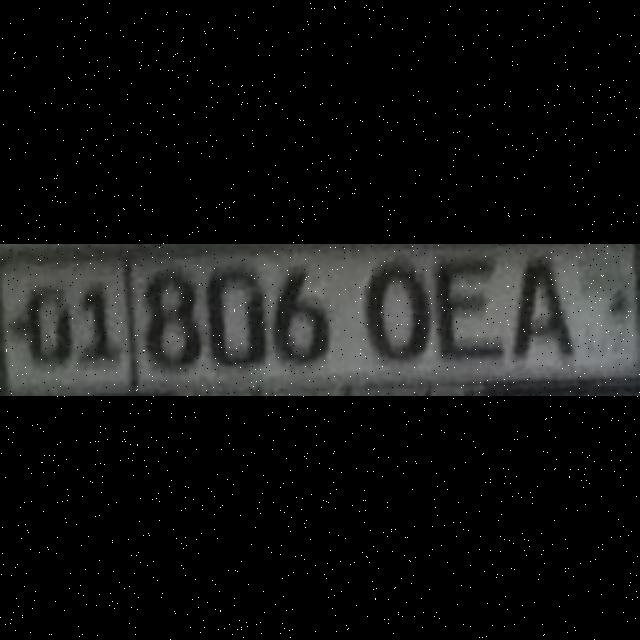0: (362, 262, 428, 356), (204, 266, 266, 364), (23, 284, 71, 364)
1: (74, 283, 114, 362)
6: (270, 264, 326, 364)
8: (143, 268, 199, 366)
A: (512, 256, 572, 356)
E: (436, 260, 502, 356)
